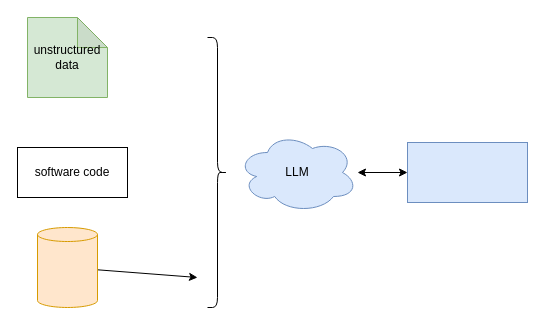
This 545x325 diagram has some shape labels left out. Here are the shapes that lost their labels. From the top down, the centre of each, then its label:
At pixel 467 172: "Q&A Chat App".
At pixel 67 267: "Structured Data SQL".
